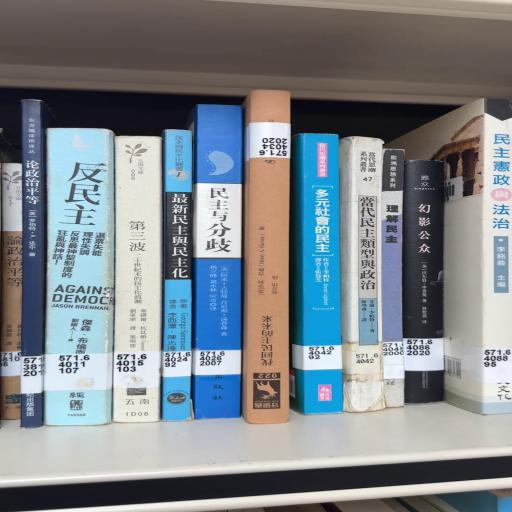reverse: (243, 92, 292, 425)
